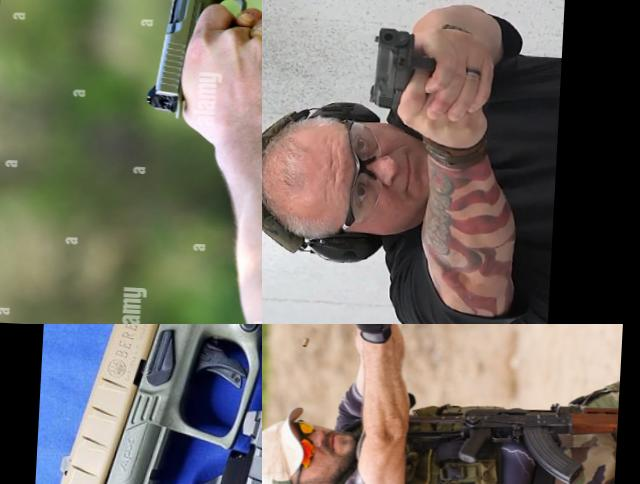handgun: (51, 324, 262, 484), (139, 0, 262, 147), (160, 391, 262, 484), (366, 24, 451, 114), (326, 324, 403, 365)
